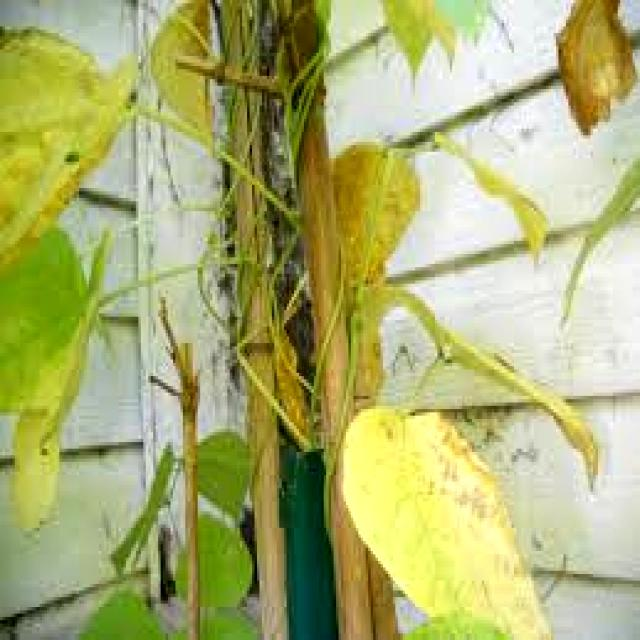yellowish leaf: (339, 390, 562, 640), (3, 24, 138, 281), (298, 139, 438, 323), (434, 119, 568, 283), (556, 0, 636, 137), (148, 0, 218, 142)
